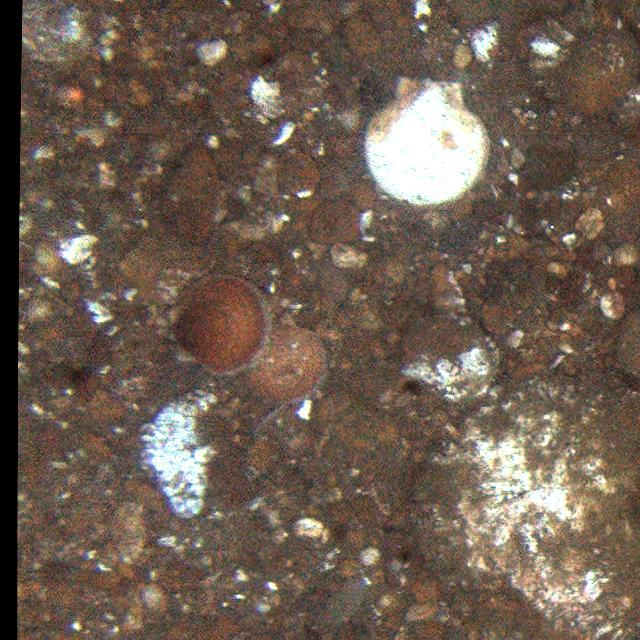scallop: (173, 270, 274, 374)
